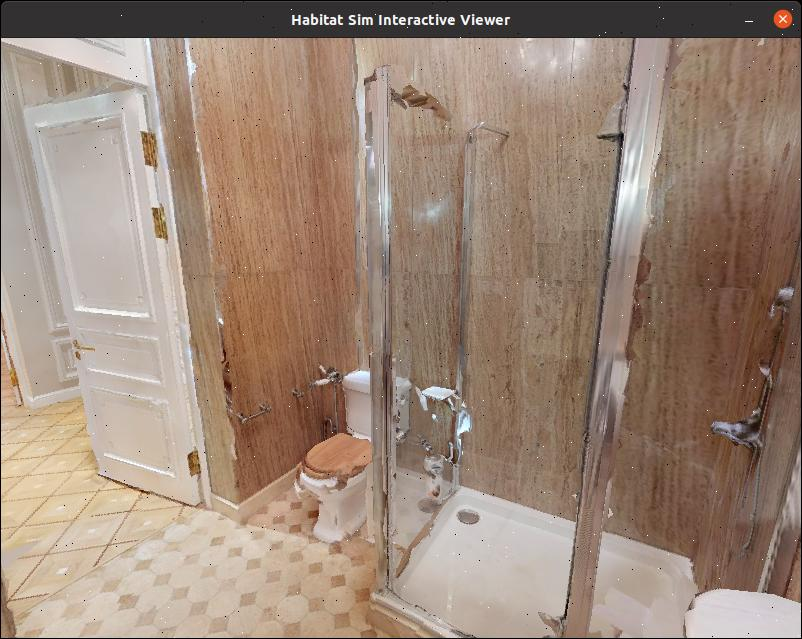door: (60, 93, 203, 515)
door-frame: (0, 36, 214, 552)
shower: (345, 37, 802, 639)
toilet: (299, 345, 420, 555)
